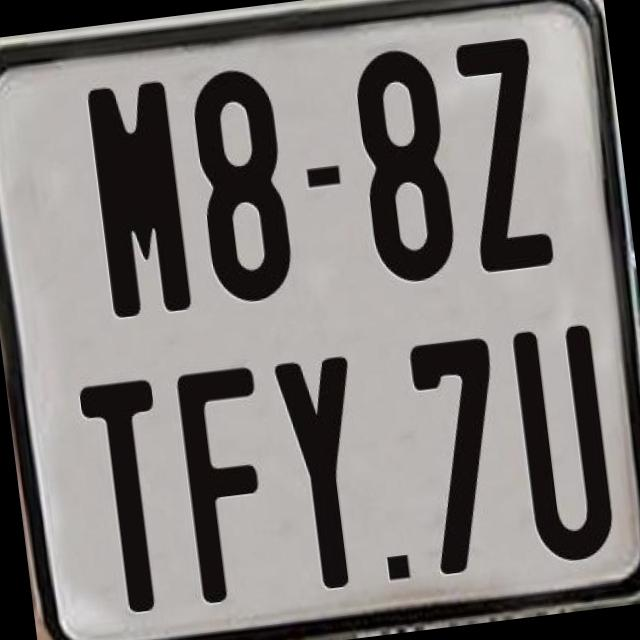7: (406, 335, 514, 575)
8: (183, 63, 300, 312), (350, 42, 466, 292)
F: (173, 362, 286, 610)
M: (85, 76, 194, 320)
T: (76, 374, 184, 621)
U: (508, 319, 620, 562)
Y: (271, 350, 378, 595)
Z: (451, 32, 556, 276)
